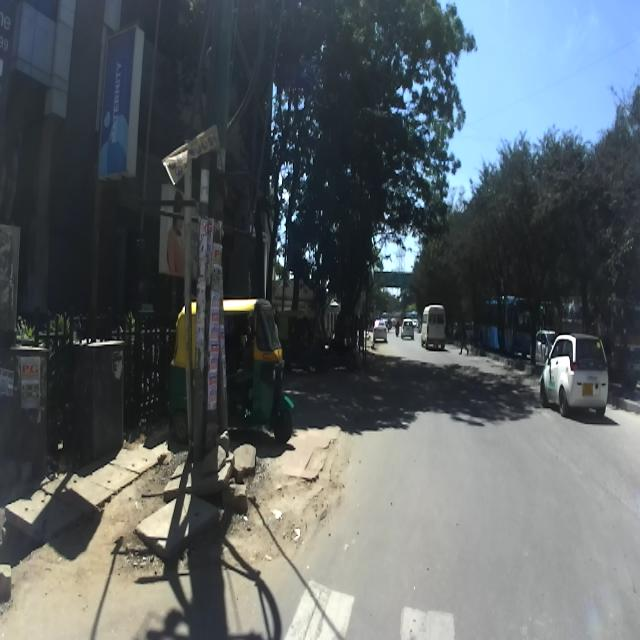car ahead at: (538, 328, 613, 421)
electric pole ahead at: (166, 6, 252, 519)
